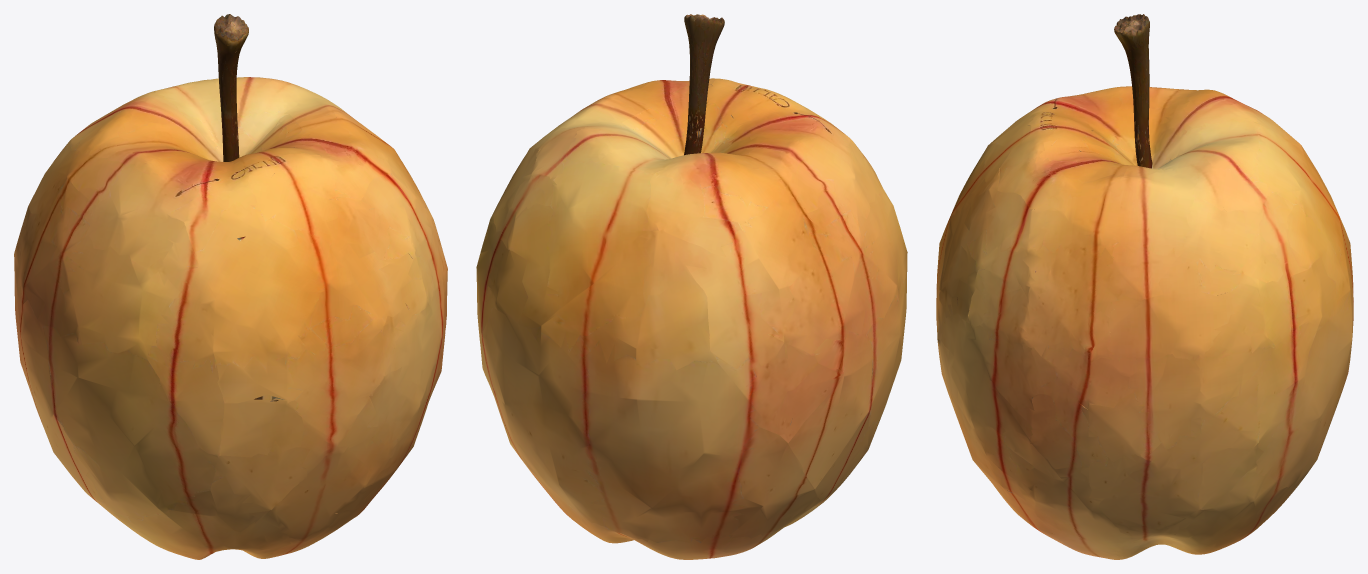
File: kitchen-apple-06.glb
The picture shows the model from 3 angles, left to right: view 1: azimuth 30°, elevation 25°; view 2: azimuth 150°, elevation 25°; view 3: azimuth 270°, elevation 25°; orthographic projection.
Size of the model in its own units: 1.41 by 1.9 by 1.41.
1 material, 1 textured.
